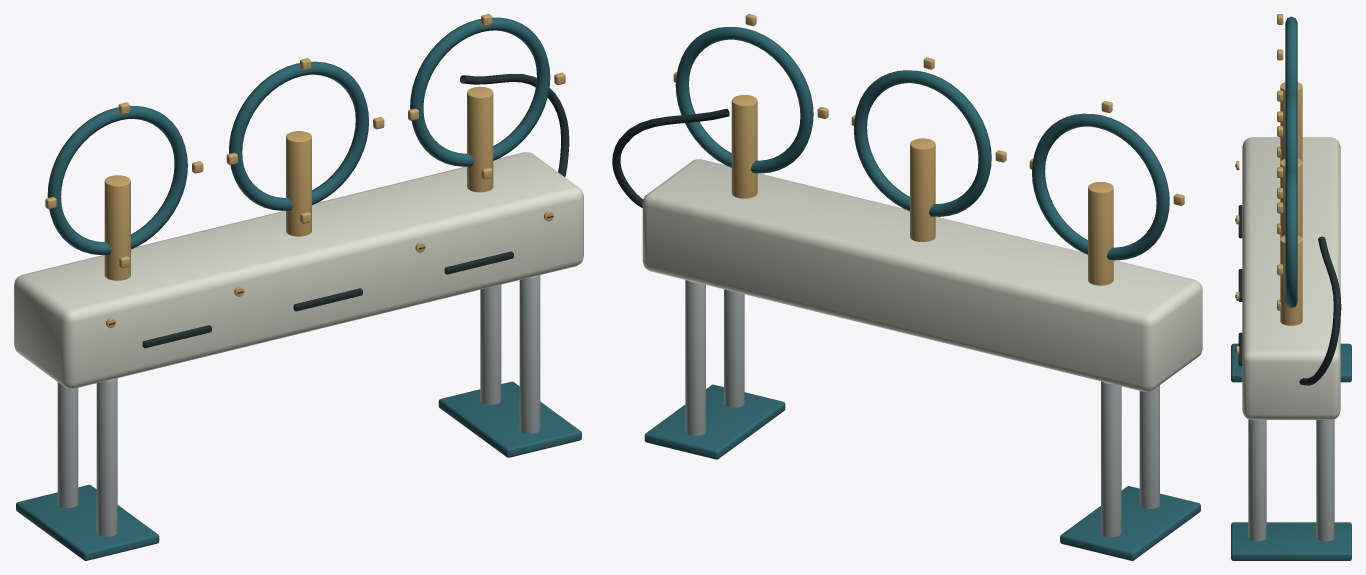
The model's file is beacon.glb.
3 renders of one model, left to right at view 1: azimuth 30°, elevation 25°; view 2: azimuth 150°, elevation 25°; view 3: azimuth 270°, elevation 25°, orthographic. The views are drawn at different scales.
Visible parts, largest first — view 1: Enamel base, Lens socket.002, Lens socket, Lens socket.001, Sandy mounting foot.001, Sandy mounting foot, Bolted beacon leg.003, Bolted beacon leg.001, Bolted beacon leg, Socket support.002, Socket support, Bolted beacon leg.002 (+2 smaller); view 2: Enamel base, Lens socket.001, Lens socket, Lens socket.002, Sandy mounting foot, Sandy mounting foot.001, Bolted beacon leg, Bolted beacon leg.002, Socket support.002, Socket support.001, Socket support, Bolted beacon leg.001 (+2 smaller); view 3: Enamel base, Sandy mounting foot.001, Bolted beacon leg.002, Bolted beacon leg.003, Lens socket.002, Power cable, Socket support.002, Lens socket.001, Lens socket, Sandy mounting foot, Socket support, Socket support.001.
Part boxes in pixels (x1,y1,x2,y2): Enamel base: (14, 152, 583, 388); Lens socket.002: (410, 17, 550, 166); Lens socket: (47, 106, 187, 254); Lens socket.001: (229, 61, 368, 210); Sandy mounting foot.001: (438, 381, 581, 457); Sandy mounting foot: (16, 484, 159, 560); Bolted beacon leg.003: (519, 275, 540, 433); Bolted beacon leg.001: (96, 378, 117, 536); Bolted beacon leg: (57, 382, 78, 508); Socket support.002: (467, 86, 493, 192); Socket support: (104, 175, 130, 280); Bolted beacon leg.002: (480, 284, 501, 404); Enamel base: (642, 159, 1202, 391); Lens socket.001: (854, 70, 991, 216); Lens socket: (1032, 113, 1169, 260); Lens socket.002: (675, 27, 813, 173); Sandy mounting foot: (1060, 486, 1200, 560); Sandy mounting foot.001: (644, 384, 785, 459); Bolted beacon leg: (1101, 381, 1121, 537); Bolted beacon leg.002: (685, 280, 705, 435); Socket support.002: (731, 95, 757, 198); Socket support.001: (910, 138, 935, 242); Socket support: (1088, 182, 1113, 285); Bolted beacon leg.001: (1139, 385, 1159, 508); Enamel base: (1242, 137, 1340, 419); Sandy mounting foot.001: (1231, 522, 1351, 560); Bolted beacon leg.002: (1316, 419, 1334, 541); Bolted beacon leg.003: (1248, 419, 1266, 541); Lens socket.002: (1285, 169, 1297, 308); Power cable: (1299, 236, 1341, 385); Socket support.002: (1280, 235, 1302, 325); Lens socket.001: (1285, 93, 1297, 175); Lens socket: (1285, 16, 1297, 98); Sandy mounting foot: (1231, 343, 1351, 382); Socket support: (1280, 82, 1302, 161); Socket support.001: (1280, 159, 1302, 237).
Bounding box in the file's own units: 0.7318 × 0.533 × 0.16.
